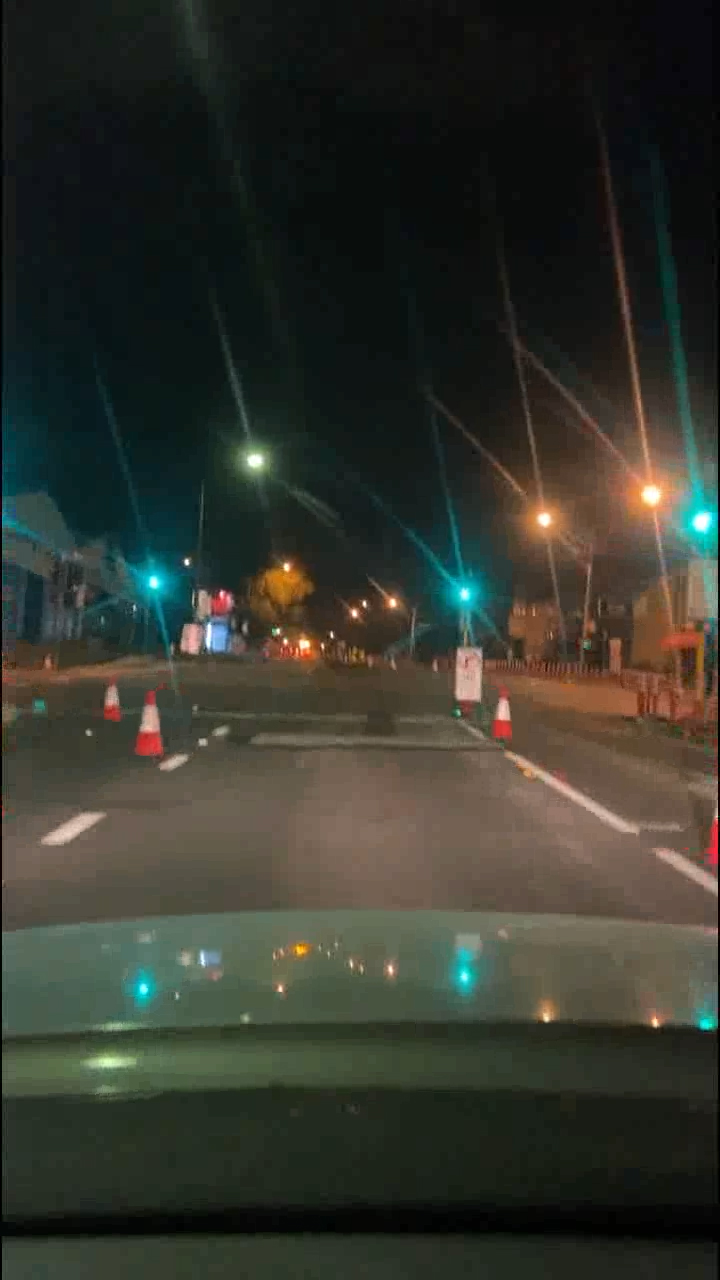road cone: (137, 688, 166, 757), (96, 664, 125, 733), (488, 681, 517, 750)
